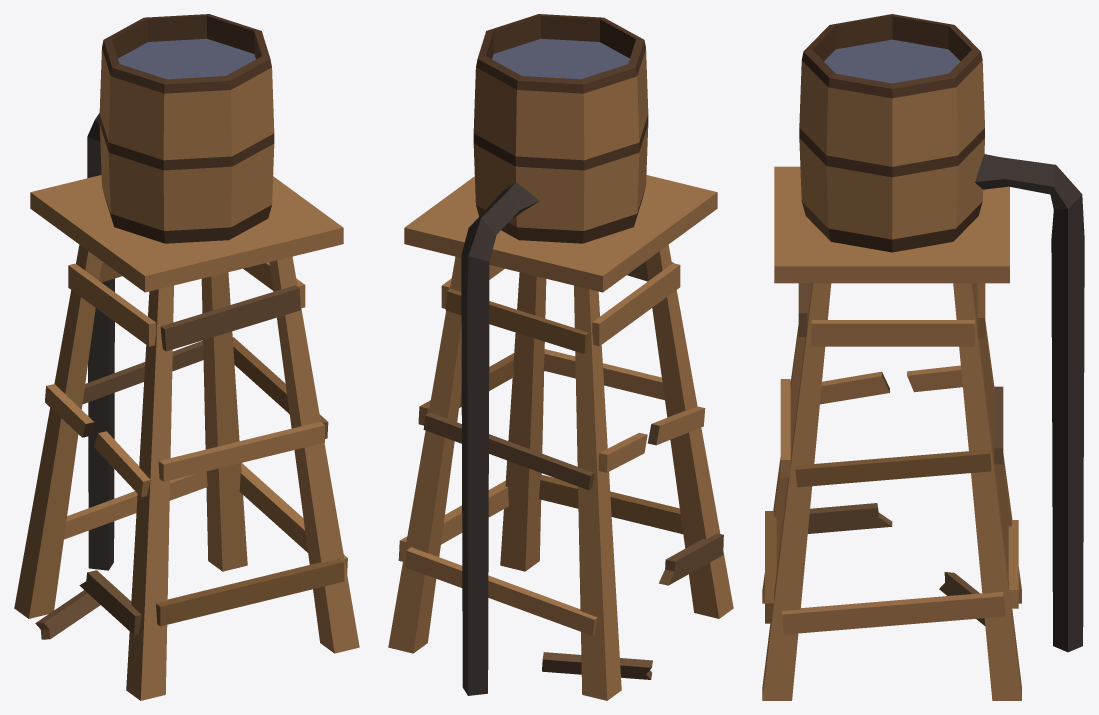
Rendered from tower.dae.
3 renders of one model, left to right at view 1: azimuth 30°, elevation 25°; view 2: azimuth 150°, elevation 25°; view 3: azimuth 270°, elevation 25°, orthographic. The views are drawn at different scales.
Parts seen in each view (by area): view 1: WaterTower; view 2: WaterTower; view 3: WaterTower.
Boxes of the visible parts, x1,y1,x2,y2 form: WaterTower: (14, 14, 359, 700); WaterTower: (388, 14, 733, 700); WaterTower: (762, 14, 1084, 700).
Bounding box in the file's own units: 3.18 × 3.75 × 7.69.
